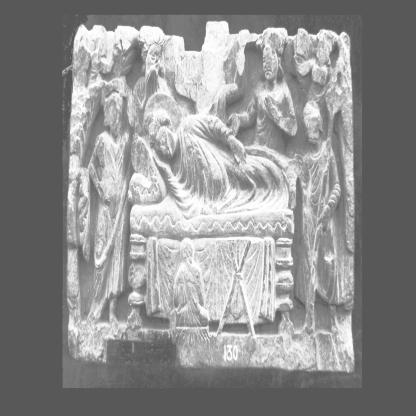buddha-sleeping: (128, 94, 294, 340)
